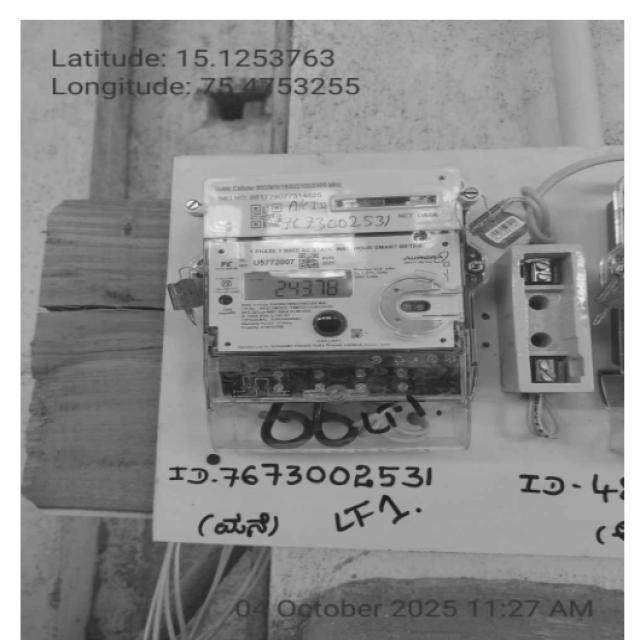meter: (205, 175, 468, 398)
